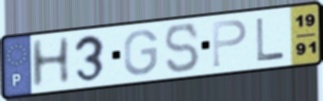3: (73, 31, 111, 86)
G: (122, 28, 160, 78)
H: (28, 34, 73, 91)
L: (254, 16, 287, 63)
P: (210, 18, 249, 70)
S: (163, 22, 202, 76)
